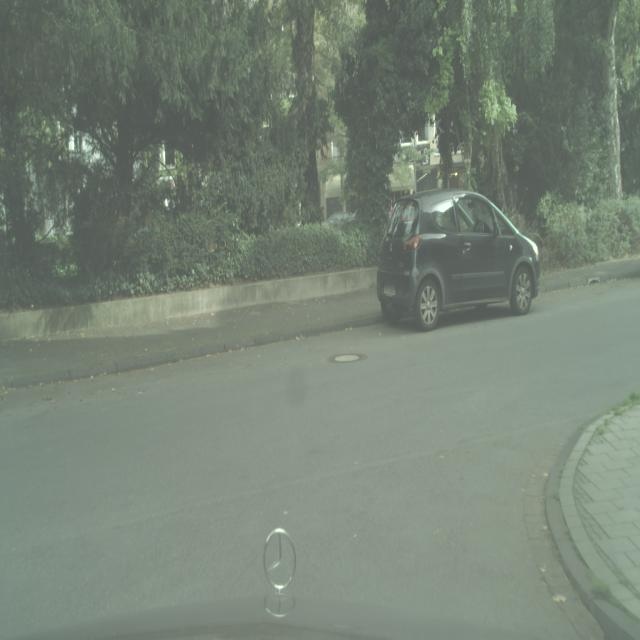truck: (377, 189, 540, 331)
